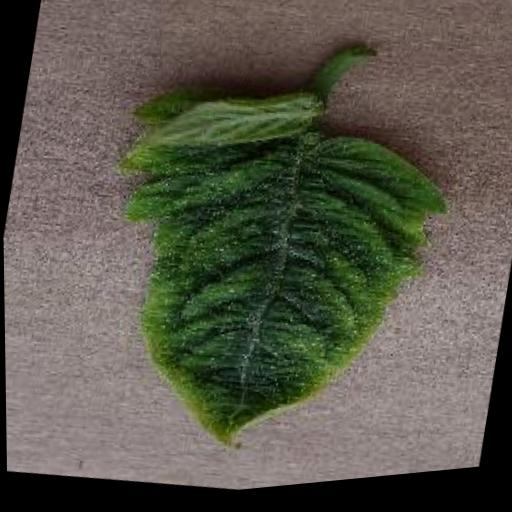Yellow Leaf Curl Virus: (70, 54, 466, 498)
